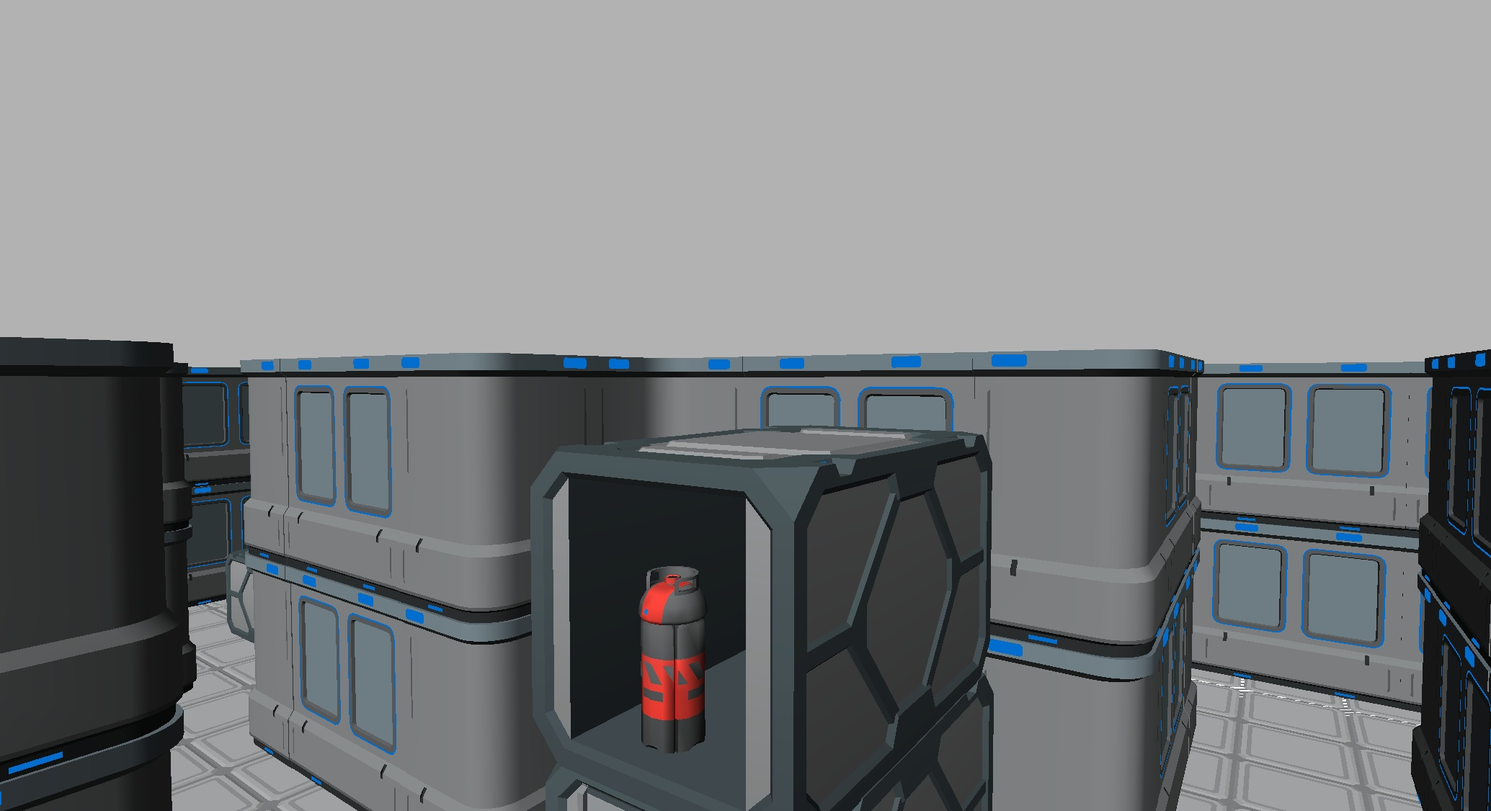red_barrel: (640, 567, 706, 752)
